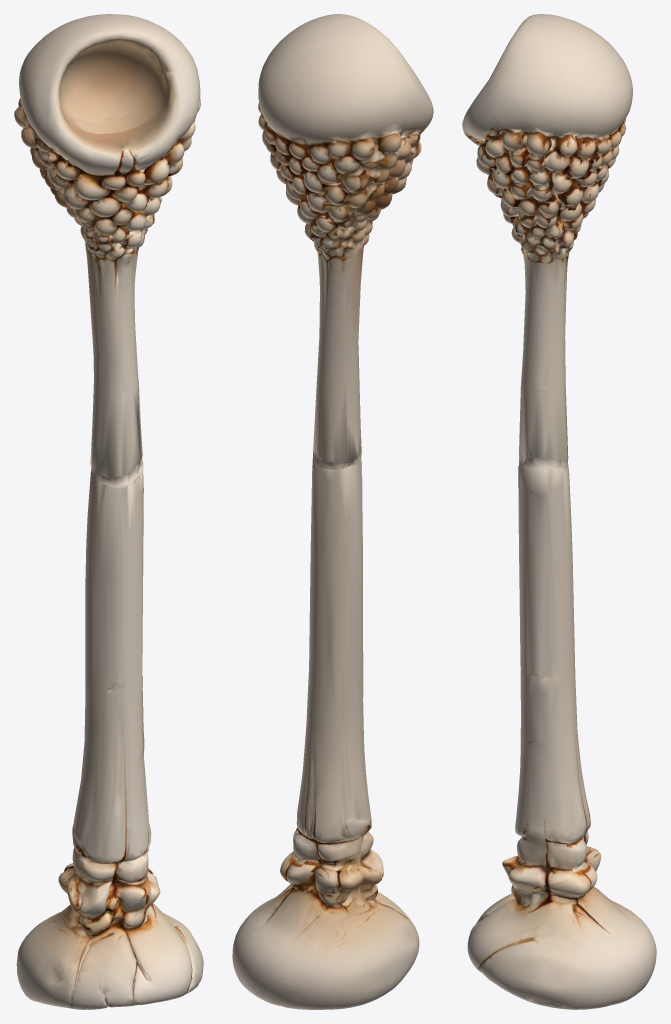
File: radius.glb
The picture shows the model from 3 angles, left to right: view 1: azimuth 30°, elevation 25°; view 2: azimuth 150°, elevation 25°; view 3: azimuth 270°, elevation 25°; orthographic projection. The views are drawn at different scales.
Visible parts, largest first — view 1: radius; view 2: radius; view 3: radius.
Part boxes in pixels (box(x1,y1,x2,y2)): radius: box(14, 14, 203, 1009); radius: box(232, 14, 433, 1009); radius: box(462, 14, 656, 1009).
Bounding box in the file's own units: 0.1848 × 1 × 0.1849.
Materials: 1 (1 with a texture image).
